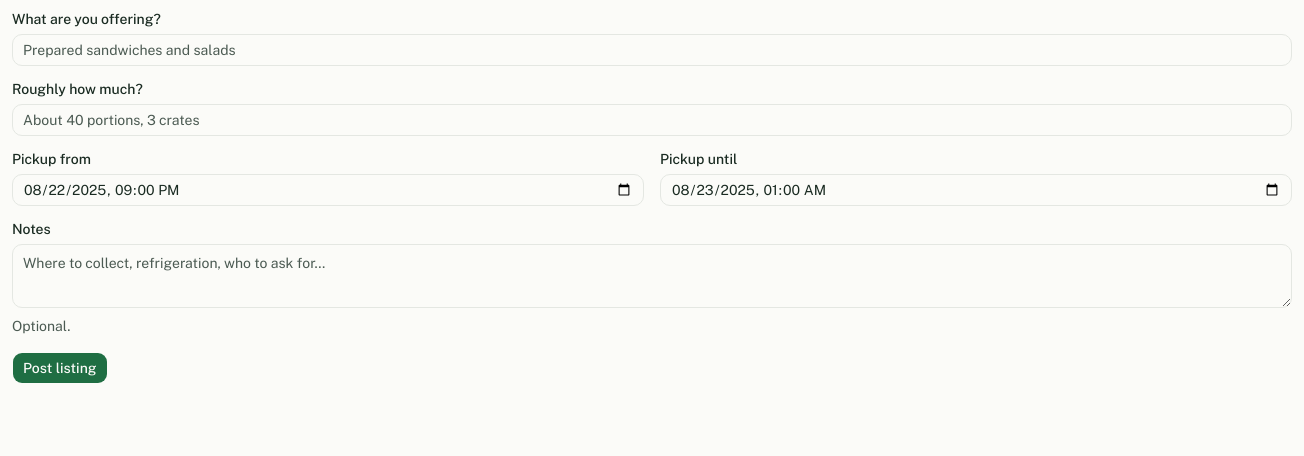
Scenario: ListingForm › blocks an empty submit
Click the button "Post listing": x=60, y=368 12,352 -> 108,384
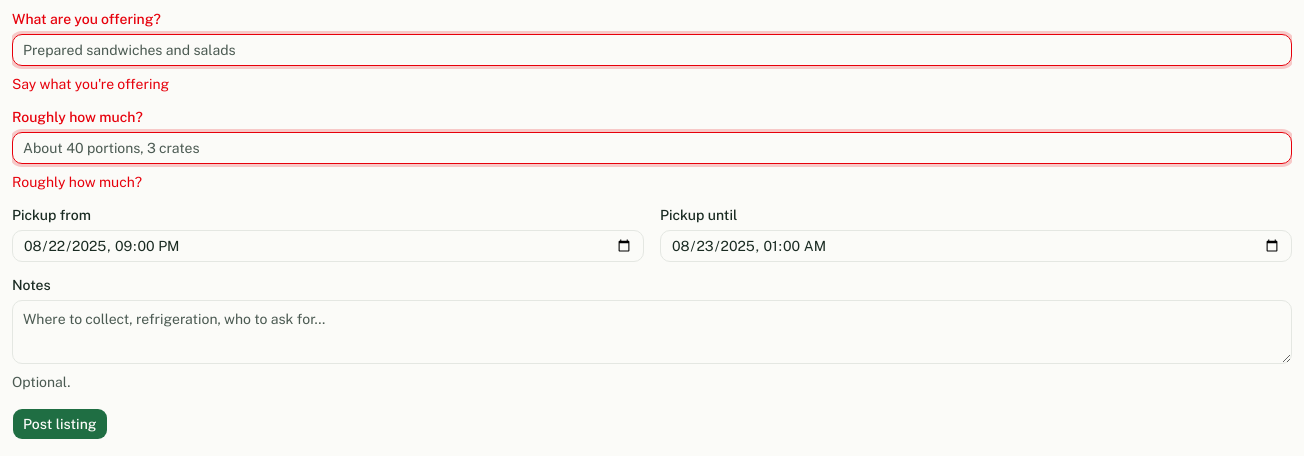
Expected: the text "Say what you're offering" is shown, 12,76 -> 169,92
